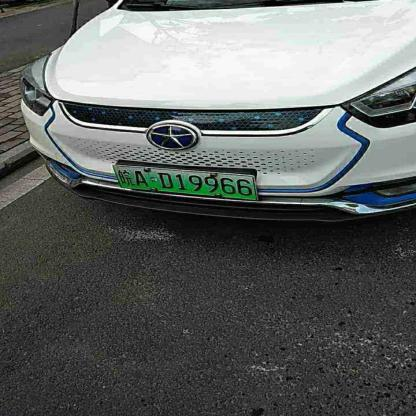lp: (113, 166, 256, 200)
